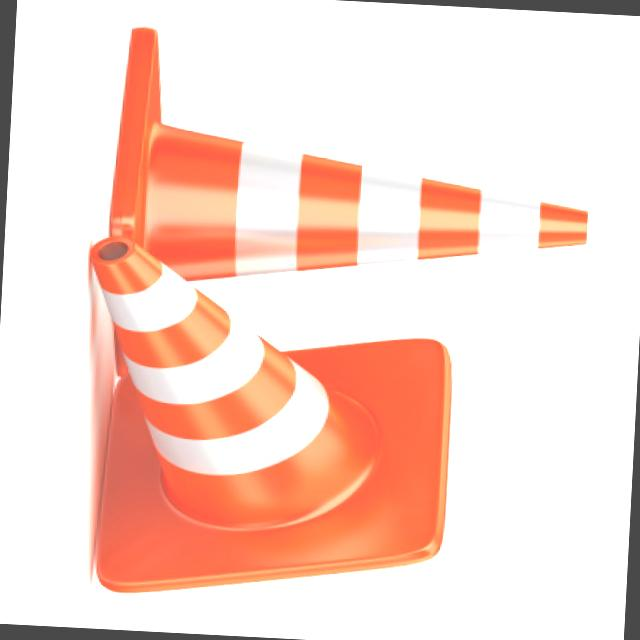cone: (91, 42, 610, 318), (81, 234, 474, 597)
